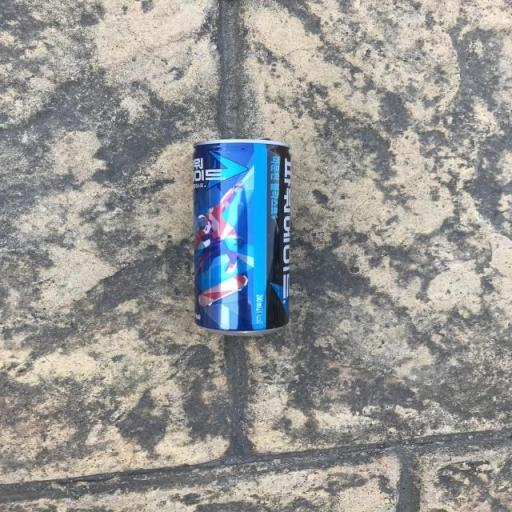metal: (165, 120, 318, 354)
